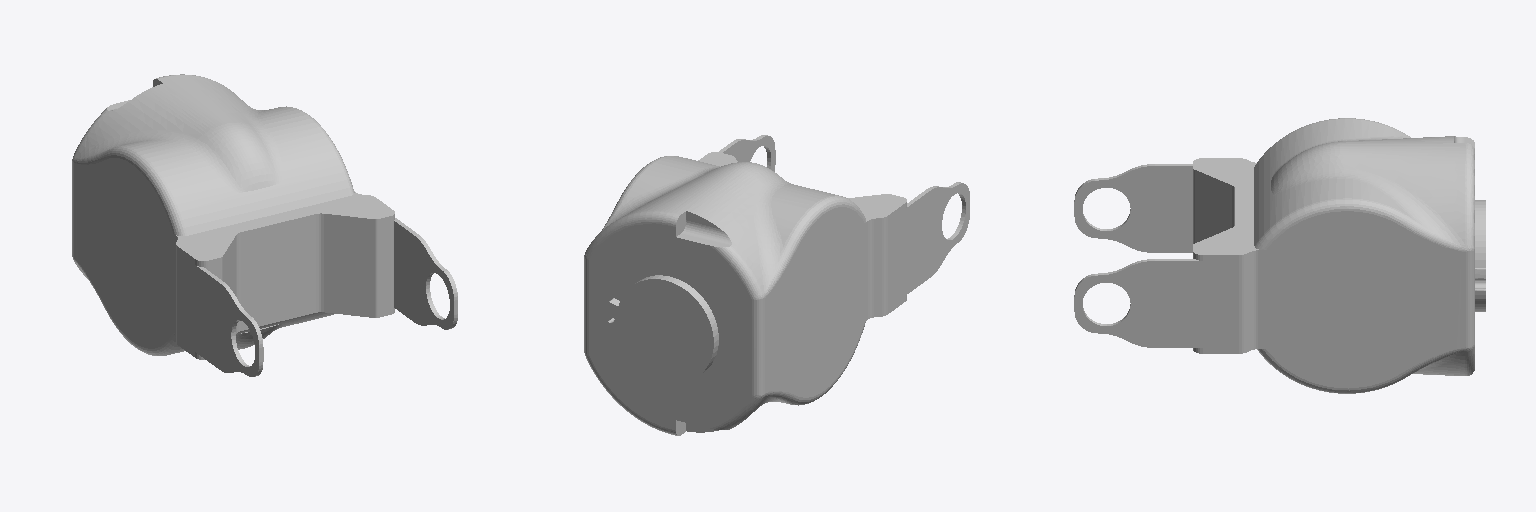
File: openarm_left_link5_collision_mesh.obj
3 views of the same model, side by side, from view 1: azimuth 30°, elevation 25°; view 2: azimuth 150°, elevation 25°; view 3: azimuth 270°, elevation 25° (orthographic).
Size of the model in its own units: 0.0716 by 0.076 by 0.1282.